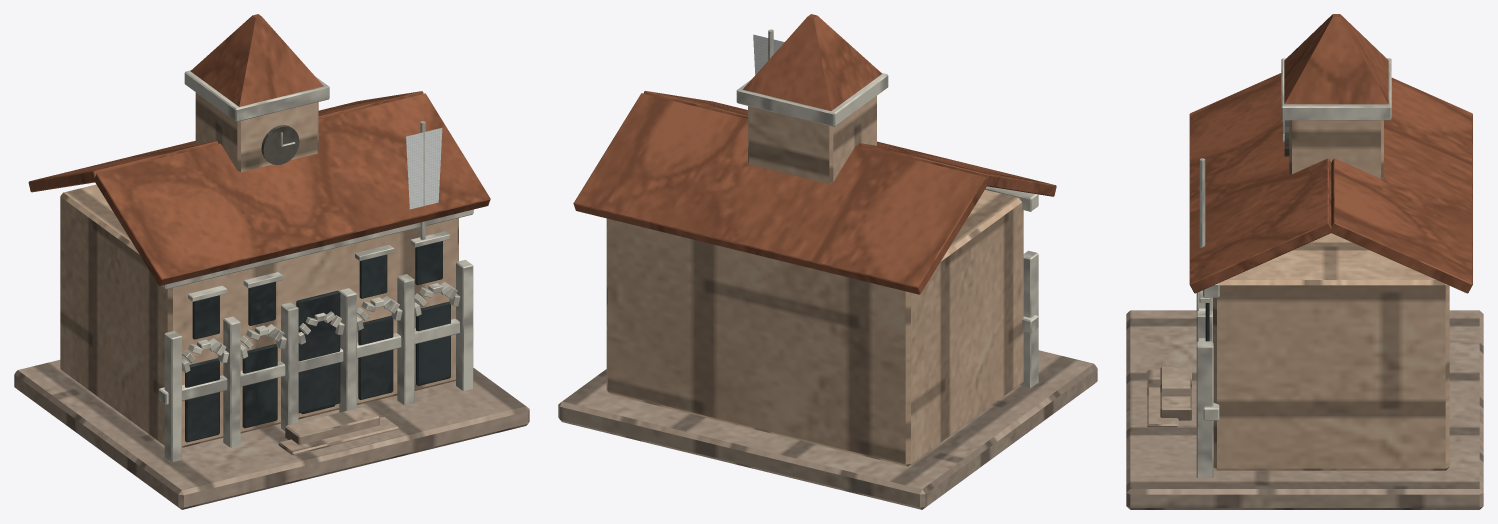
The model's file is edificio-center-e3-DiFkNKtj.glb.
3 views of the same model, side by side, from view 1: azimuth 30°, elevation 25°; view 2: azimuth 150°, elevation 25°; view 3: azimuth 270°, elevation 25° (orthographic). The views are drawn at different scales.
Parts seen in each view (by area): view 1: centro_e3_mamposteria, centro_e3_cubierta_detalles, centro_e3_estructura, centro_e3_team_color; view 2: centro_e3_mamposteria, centro_e3_cubierta_detalles, centro_e3_estructura; view 3: centro_e3_mamposteria, centro_e3_cubierta_detalles, centro_e3_estructura.
Boxes of the visible parts, bbox=[...] form: centro_e3_mamposteria: bbox=[14, 92, 529, 509]; centro_e3_cubierta_detalles: bbox=[28, 14, 490, 442]; centro_e3_estructura: bbox=[158, 70, 473, 461]; centro_e3_team_color: bbox=[406, 128, 442, 209]; centro_e3_mamposteria: bbox=[558, 96, 1097, 509]; centro_e3_cubierta_detalles: bbox=[573, 14, 1056, 294]; centro_e3_estructura: bbox=[736, 29, 1038, 387]; centro_e3_mamposteria: bbox=[1126, 120, 1483, 509]; centro_e3_cubierta_detalles: bbox=[1189, 14, 1472, 341]; centro_e3_estructura: bbox=[1196, 58, 1391, 477].
Bounding box in the file's own units: 82 × 85 × 68.
Materials: 4 (4 with a texture image).
